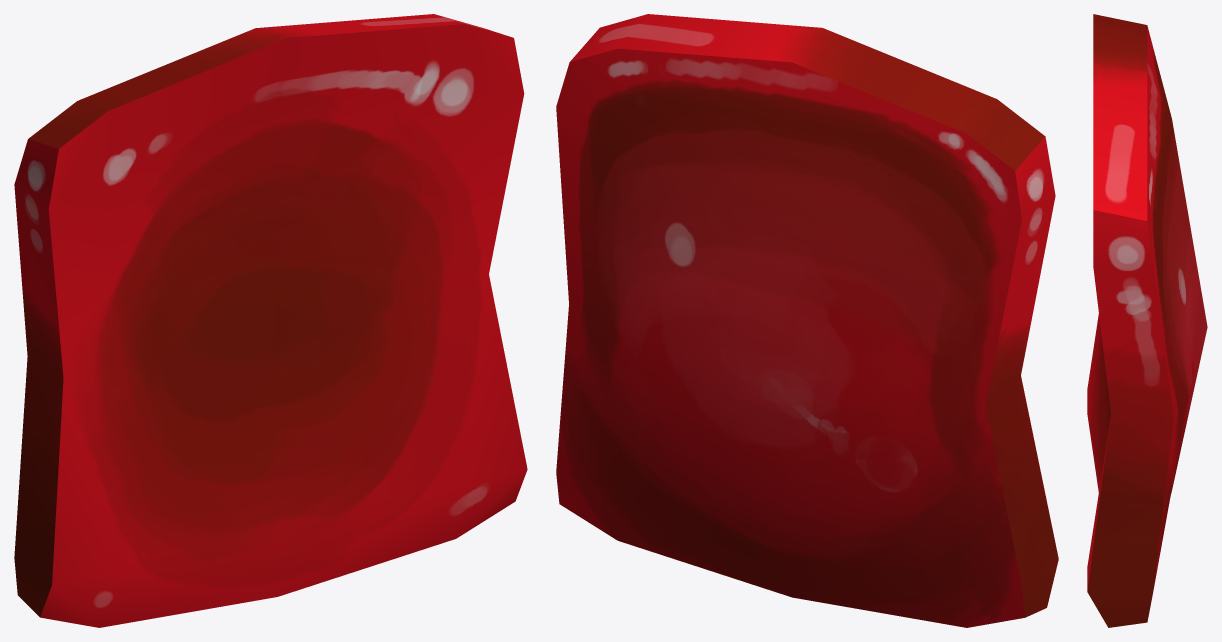
File: Chair_Front.FBX
The picture shows the model from 3 angles, left to right: view 1: azimuth 30°, elevation 25°; view 2: azimuth 150°, elevation 25°; view 3: azimuth 270°, elevation 25°; orthographic projection. The views are drawn at different scales.
Visible parts, largest first — view 1: Chair_flap_062; view 2: Chair_flap_062; view 3: Chair_flap_062.
Part boxes in pixels (<box>): Chair_flap_062: <box>14,14,527,627</box>; Chair_flap_062: <box>556,14,1058,627</box>; Chair_flap_062: <box>1087,14,1207,627</box>.
Size of the model in its own units: 80 by 20.01 by 90.84.
